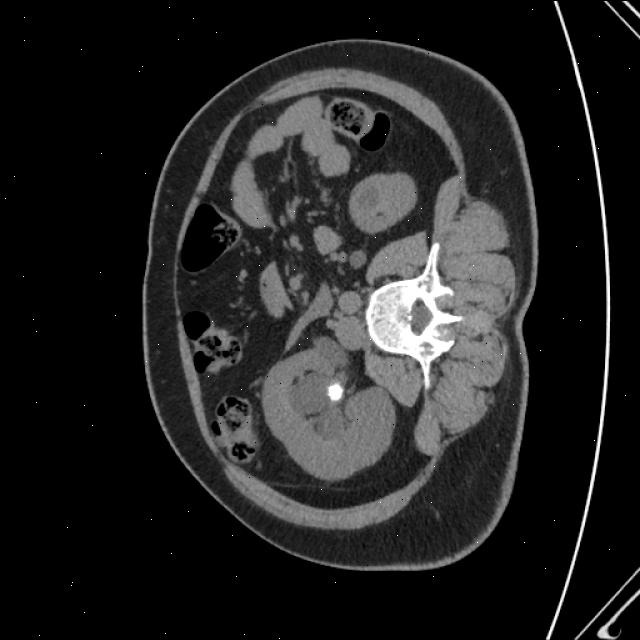kidneystone: (328, 381, 343, 400)
